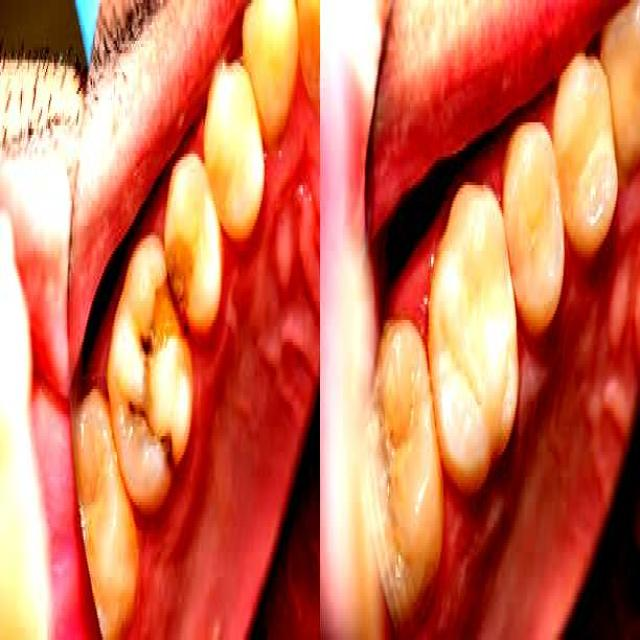caries: (129, 218, 195, 379), (124, 385, 180, 497)
